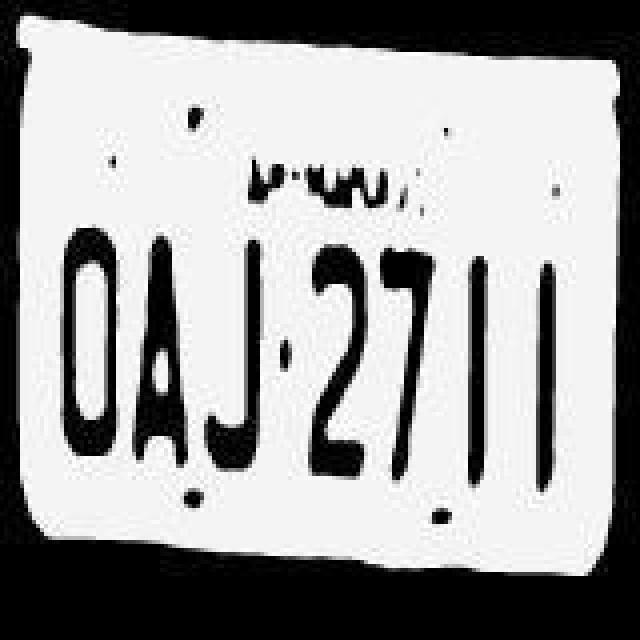1: (518, 252, 570, 516), (446, 248, 498, 496)
2: (290, 234, 366, 486)
7: (364, 238, 436, 482)
A: (126, 222, 194, 474)
J: (196, 224, 268, 480)
O: (50, 208, 126, 464)
